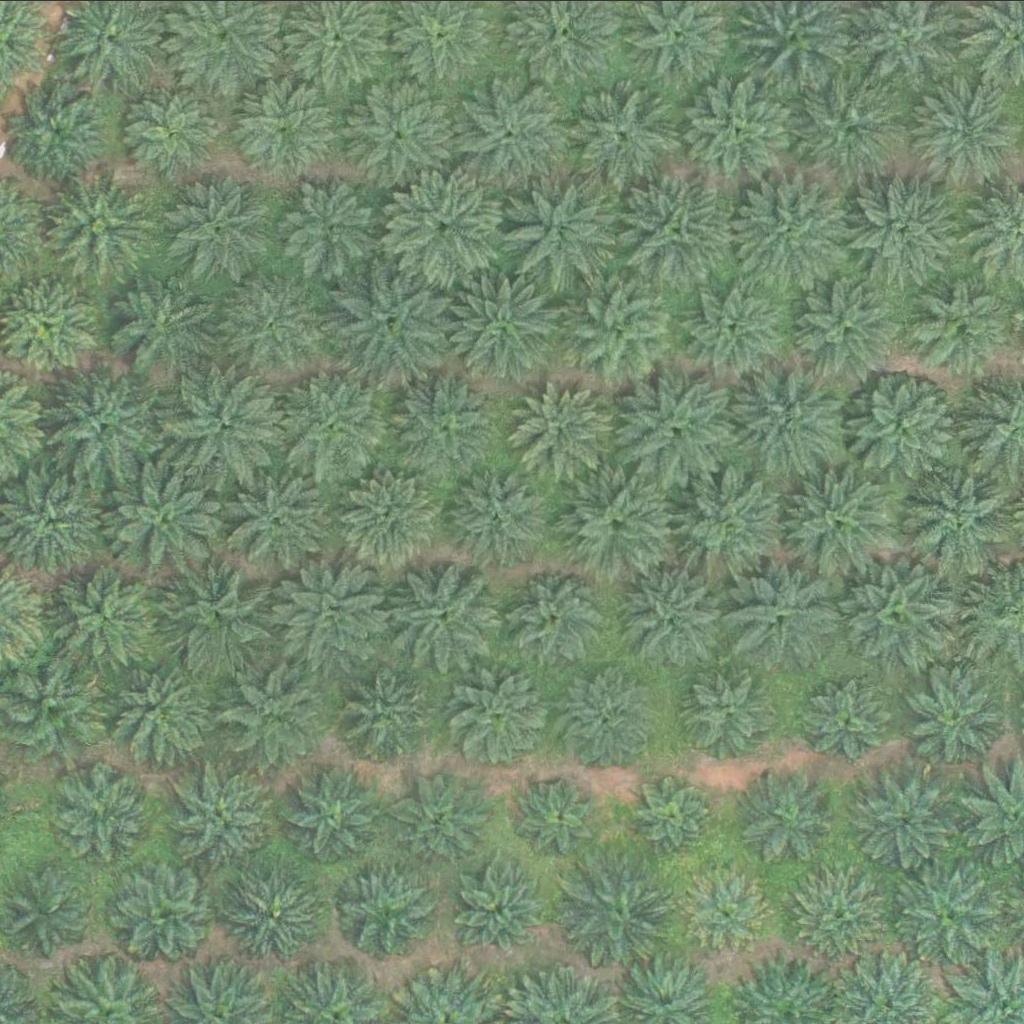Kelapa_Sawit: (105, 264, 219, 377), (889, 856, 1003, 969), (561, 275, 675, 388), (619, 170, 733, 283), (737, 170, 851, 283), (793, 71, 907, 184), (908, 70, 1022, 183), (388, 168, 501, 281), (500, 171, 613, 284), (218, 267, 331, 380), (337, 262, 450, 375), (449, 269, 562, 382), (49, 367, 162, 480), (171, 365, 284, 478), (273, 560, 386, 673), (389, 560, 502, 673), (501, 562, 614, 675), (614, 561, 727, 674), (727, 555, 840, 668), (841, 555, 954, 668), (782, 465, 895, 578), (908, 463, 1021, 576), (850, 174, 963, 287), (40, 171, 154, 283), (164, 172, 278, 284), (683, 70, 797, 182), (346, 74, 459, 186), (456, 70, 569, 182), (277, 365, 390, 477), (390, 367, 503, 479), (108, 460, 221, 572), (219, 463, 332, 575), (52, 560, 165, 672), (167, 557, 280, 669), (167, 755, 280, 867), (567, 853, 680, 965), (560, 470, 673, 582), (676, 467, 789, 579), (620, 368, 733, 480), (732, 362, 845, 474), (844, 368, 957, 480), (787, 269, 900, 381), (565, 76, 678, 188), (6, 82, 107, 182), (509, 376, 610, 476), (341, 468, 442, 568), (447, 463, 548, 563), (111, 665, 212, 765), (224, 668, 325, 768), (337, 666, 438, 766), (50, 758, 151, 858), (284, 765, 385, 865), (114, 863, 215, 963), (219, 868, 320, 968), (333, 862, 434, 962), (733, 763, 834, 863), (858, 768, 959, 868), (683, 662, 784, 762), (906, 669, 1007, 769), (910, 272, 1011, 372), (125, 81, 225, 181), (239, 76, 339, 176), (283, 173, 383, 273), (453, 665, 553, 765), (557, 665, 657, 765), (389, 767, 489, 867), (688, 277, 788, 377), (686, 868, 774, 956), (626, 767, 714, 855), (802, 677, 890, 765), (455, 867, 543, 954), (791, 869, 879, 956), (521, 780, 597, 855)
